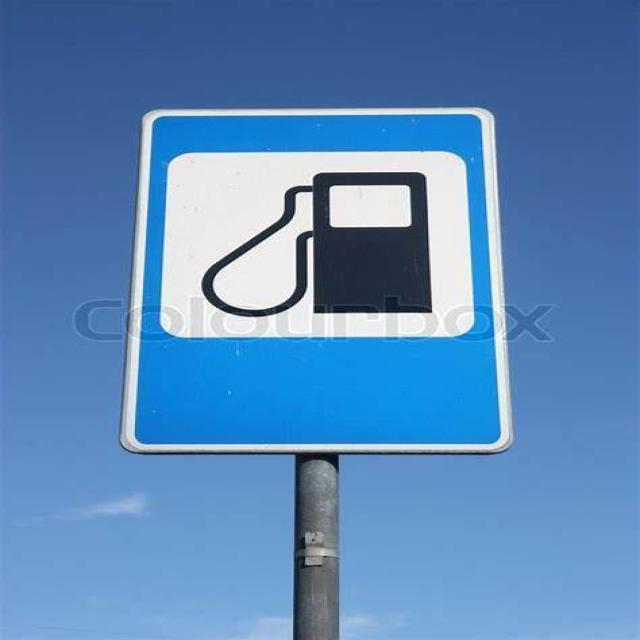petrol pump ahead: (157, 137, 482, 364)
